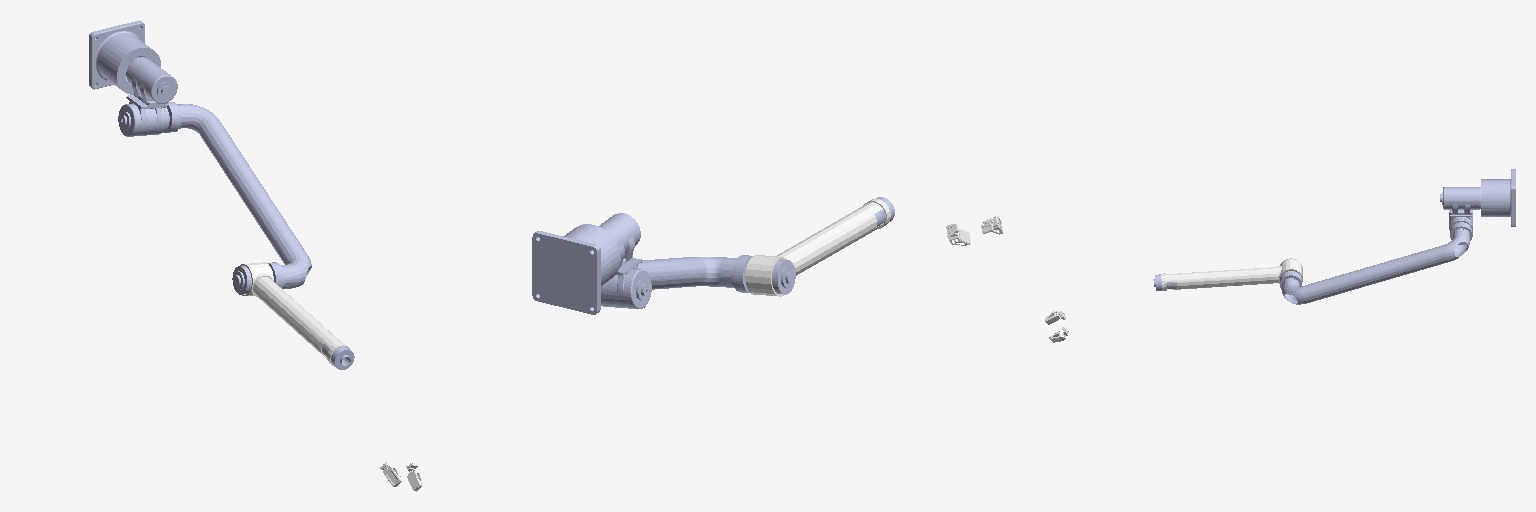
The robot description file, URDF, robot "starlink_space_manipulator_merged":
<?xml version="1.0" encoding="utf-8"?>
<!-- This URDF was automatically created by SolidWorks to URDF Exporter! Originally created by Stephen Brawner (brawner@gmail.com) 
     Commit Version: 1.6.0-4-g7f85cfe  Build Version: 1.6.7995.38578
     For more information, please see http://wiki.ros.org/sw_urdf_exporter -->
<robot
  name="starlink_space_manipulator_merged">
  <link
    name="base_link">
    <inertial>
      <origin
        xyz="-0.00908719924946466 0.0225428225681148 -0.00851924929637313"
        rpy="0 0 0" />
      <mass
        value="8.66024015898073" />
      <inertia
        ixx="0.096030351269764"
        ixy="1.77727621678889E-18"
        ixz="5.16160702233089E-19"
        iyy="0.103454922260914"
        iyz="-1.06284598473085E-18"
        izz="0.0960303512697639" />
    </inertial>
    <visual>
      <origin
        xyz="0 0 0"
        rpy="0 0 0" />
      <geometry>
        <mesh
          filename="package://starlink_space_manipulator_merged/meshes/base_link.STL" />
      </geometry>
      <material
        name="">
        <color
          rgba="0.792156862745098 0.819607843137255 0.933333333333333 1" />
      </material>
    </visual>
    <collision>
      <origin
        xyz="0 0 0"
        rpy="0 0 0" />
      <geometry>
        <mesh
          filename="package://starlink_space_manipulator_merged/meshes/base_link.STL" />
      </geometry>
    </collision>
  </link>
  <link
    name="1_Link">
    <inertial>
      <origin
        xyz="0 1.73472347597681E-18 0.0924571774318852"
        rpy="0 0 0" />
      <mass
        value="8.66024015898073" />
      <inertia
        ixx="0.096030351269764"
        ixy="6.22039820639877E-19"
        ixz="-1.70133968744234E-18"
        iyy="0.0960303512697639"
        iyz="5.48680140118644E-19"
        izz="0.103454922260914" />
    </inertial>
    <visual>
      <origin
        xyz="0 0 0"
        rpy="0 0 0" />
      <geometry>
        <mesh
          filename="package://starlink_space_manipulator_merged/meshes/1_Link.STL" />
      </geometry>
      <material
        name="">
        <color
          rgba="0.792156862745098 0.819607843137255 0.933333333333333 1" />
      </material>
    </visual>
    <collision>
      <origin
        xyz="0 0 0"
        rpy="0 0 0" />
      <geometry>
        <mesh
          filename="package://starlink_space_manipulator_merged/meshes/1_Link.STL" />
      </geometry>
    </collision>
  </link>
  <joint
    name="1"
    type="fixed">
    <origin
      xyz="-0.0090872 0.115 -0.0085192"
      rpy="1.5708 0 0" />
    <parent
      link="base_link" />
    <child
      link="1_Link" />
    <axis
      xyz="0 0 0" />
  </joint>
  <link
    name="2_Link">
    <inertial>
      <origin
        xyz="-0.000399471745595875 -0.100006574194713 -0.17423940484461"
        rpy="0 0 0" />
      <mass
        value="5.16309216784981" />
      <inertia
        ixx="0.0524543852135592"
        ixy="0.00348154867667969"
        ixz="6.96526910910626E-05"
        iyy="0.0306595326318824"
        iyz="-0.00056674368052247"
        izz="0.0439979075615329" />
    </inertial>
    <visual>
      <origin
        xyz="0 0 0"
        rpy="0 0 0" />
      <geometry>
        <mesh
          filename="package://starlink_space_manipulator_merged/meshes/2_Link.STL" />
      </geometry>
      <material
        name="">
        <color
          rgba="0.792156862745098 0.819607843137255 0.933333333333333 1" />
      </material>
    </visual>
    <collision>
      <origin
        xyz="0 0 0"
        rpy="0 0 0" />
      <geometry>
        <mesh
          filename="package://starlink_space_manipulator_merged/meshes/2_Link.STL" />
      </geometry>
    </collision>
  </link>
  <joint
    name="2"
    type="continuous">
    <origin
      xyz="0 0 0.180000000000037"
      rpy="3.14159265358979 0 2.98585080183883" />
    <parent
      link="1_Link" />
    <child
      link="2_Link" />
    <axis
      xyz="0 0 1" />
  </joint>
  <link
    name="3_Link">
    <inertial>
      <origin
        xyz="0.402106343974582 -0.69646527723748 -0.170177521474819"
        rpy="0 0 0" />
      <mass
        value="5.05309864811919" />
      <inertia
        ixx="0.388719008707072"
        ixy="0.210155891727349"
        ixz="9.35582867740286E-08"
        iyy="0.146049053932881"
        iyz="1.72041245618929E-07"
        izz="0.500677699984319" />
    </inertial>
    <visual>
      <origin
        xyz="0 0 0"
        rpy="0 0 0" />
      <geometry>
        <mesh
          filename="package://starlink_space_manipulator_merged/meshes/3_Link.STL" />
      </geometry>
      <material
        name="">
        <color
          rgba="0.792156862745098 0.819607843137255 0.933333333333333 1" />
      </material>
    </visual>
    <collision>
      <origin
        xyz="0 0 0"
        rpy="0 0 0" />
      <geometry>
        <mesh
          filename="package://starlink_space_manipulator_merged/meshes/3_Link.STL" />
      </geometry>
    </collision>
  </link>
  <joint
    name="3"
    type="continuous">
    <origin
      xyz="0 -0.200000000000044 -0.180000000000062"
      rpy="1.5707963267949 0.861101603774922 1.57079632679489" />
    <parent
      link="2_Link" />
    <child
      link="3_Link" />
    <axis
      xyz="0 0 1" />
  </joint>
  <link
    name="4_Link">
    <inertial>
      <origin
        xyz="-0.000406052776432964 0.317722269561103 0.0155331755135688"
        rpy="0 0 0" />
      <mass
        value="1.57635531881167" />
      <inertia
        ixx="0.133610363618846"
        ixy="5.33750993405583E-05"
        ixz="-3.60473794424369E-09"
        iyy="0.00502119434334708"
        iyz="-2.51427574990892E-05"
        izz="0.134586018527477" />
    </inertial>
    <visual>
      <origin
        xyz="0 0 0"
        rpy="0 0 0" />
      <geometry>
        <mesh
          filename="package://starlink_space_manipulator_merged/meshes/4_Link.STL" />
      </geometry>
      <material
        name="">
        <color
          rgba="1 1 1 1" />
      </material>
    </visual>
    <collision>
      <origin
        xyz="0 0 0"
        rpy="0 0 0" />
      <geometry>
        <mesh
          filename="package://starlink_space_manipulator_merged/meshes/4_Link.STL" />
      </geometry>
    </collision>
  </link>
  <joint
    name="4"
    type="continuous">
    <origin
      xyz="0.59999999999967 -1.03923048454122 0"
      rpy="-3.14159265358979 0 0.782892030860299" />
    <parent
      link="3_Link" />
    <child
      link="4_Link" />
    <axis
      xyz="0 0 1" />
  </joint>
  <link
    name="5_Link">
    <inertial>
      <origin
        xyz="4.95403718048237E-12 -0.133831799676102 -1.08292888545414E-12"
        rpy="0 0 0" />
      <mass
        value="0.493162423831723" />
      <inertia
        ixx="0.000743651993112022"
        ixy="1.20278678510111E-18"
        ixz="1.38966342908909E-20"
        iyy="0.00090854945817068"
        iyz="-1.41285095602017E-18"
        izz="0.000743651993112022" />
    </inertial>
    <visual>
      <origin
        xyz="0 0 0"
        rpy="0 0 0" />
      <geometry>
        <mesh
          filename="package://starlink_space_manipulator_merged/meshes/5_Link.STL" />
      </geometry>
      <material
        name="">
        <color
          rgba="0.792156862745098 0.819607843137255 0.933333333333333 1" />
      </material>
    </visual>
    <collision>
      <origin
        xyz="0 0 0"
        rpy="0 0 0" />
      <geometry>
        <mesh
          filename="package://starlink_space_manipulator_merged/meshes/5_Link.STL" />
      </geometry>
    </collision>
  </link>
  <joint
    name="5"
    type="continuous">
    <origin
      xyz="-0.000501551832770064 0.68679364371344 0.0155010481432148"
      rpy="0 -0.0763876794035917 3.14159265358979" />
    <parent
      link="4_Link" />
    <child
      link="5_Link" />
    <axis
      xyz="0 1 0" />
  </joint>
  <link
    name="6_Link">
    <inertial>
      <origin
        xyz="0.0214707452579566 0.411927496437301 -0.00546703071766287"
        rpy="0 0 0" />
      <mass
        value="2.87195429267027" />
      <inertia
        ixx="0.0147934331486237"
        ixy="8.63962531976598E-06"
        ixz="0.000597045968016498"
        iyy="0.00741958590010707"
        iyz="-7.79402786457456E-06"
        izz="0.0139165134650058" />
    </inertial>
    <visual>
      <origin
        xyz="0 0 0"
        rpy="0 0 0" />
      <geometry>
        <mesh
          filename="package://starlink_space_manipulator_merged/meshes/6_Link.STL" />
      </geometry>
      <material
        name="">
        <color
          rgba="1 1 1 1" />
      </material>
    </visual>
    <collision>
      <origin
        xyz="0 0 0"
        rpy="0 0 0" />
      <geometry>
        <mesh
          filename="package://starlink_space_manipulator_merged/meshes/6_Link.STL" />
      </geometry>
    </collision>
  </link>
  <joint
    name="6"
    type="continuous">
    <origin
      xyz="0 -0.252105683391845 0"
      rpy="-0.0158640776811277 -0.0317448426184613 -2.67805461574742" />
    <parent
      link="5_Link" />
    <child
      link="6_Link" />
    <axis
      xyz="0.446890321289026 0.894588755092636 0" />
  </joint>
  <link
    name="zhua1_Link">
    <inertial>
      <origin
        xyz="-0.128379781261659 0.00213384926804516 0.207655302746708"
        rpy="0 0 0" />
      <mass
        value="0.164012556994622" />
      <inertia
        ixx="0.00013737781424417"
        ixy="5.75324232565859E-07"
        ixz="1.56204373193582E-05"
        iyy="0.000128174497384982"
        iyz="2.89157114754918E-06"
        izz="5.56877074416984E-05" />
    </inertial>
    <visual>
      <origin
        xyz="0 0 0"
        rpy="0 0 0" />
      <geometry>
        <mesh
          filename="package://starlink_space_manipulator_merged/meshes/zhua1_Link.STL" />
      </geometry>
      <material
        name="">
        <color
          rgba="1 1 1 1" />
      </material>
    </visual>
    <collision>
      <origin
        xyz="0 0 0"
        rpy="0 0 0" />
      <geometry>
        <mesh
          filename="package://starlink_space_manipulator_merged/meshes/zhua1_Link.STL" />
      </geometry>
    </collision>
  </link>
  <joint
    name="8"
    type="fixed">
    <origin
      xyz="-0.0594749664346081 0.500637733720058 0.185490497621547"
      rpy="1.57079632679514 -1.16338288496691 3.14159265358967" />
    <parent
      link="6_Link" />
    <child
      link="zhua1_Link" />
    <axis
      xyz="0 0 0" />
  </joint>
  <link
    name="zhua2_Link">
    <inertial>
      <origin
        xyz="-0.128379783306647 0.00213384971683739 0.207655316229992"
        rpy="0 0 0" />
      <mass
        value="0.164012524852207" />
      <inertia
        ixx="0.000137377758651507"
        ixy="5.75327307197006E-07"
        ixz="1.56204303824166E-05"
        iyy="0.000128174447551924"
        iyz="2.8915389731705E-06"
        izz="5.56877117940916E-05" />
    </inertial>
    <visual>
      <origin
        xyz="0 0 0"
        rpy="0 0 0" />
      <geometry>
        <mesh
          filename="package://starlink_space_manipulator_merged/meshes/zhua2_Link.STL" />
      </geometry>
      <material
        name="">
        <color
          rgba="1 1 1 1" />
      </material>
    </visual>
    <collision>
      <origin
        xyz="0 0 0"
        rpy="0 0 0" />
      <geometry>
        <mesh
          filename="package://starlink_space_manipulator_merged/meshes/zhua2_Link.STL" />
      </geometry>
    </collision>
  </link>
  <joint
    name="7"
    type="fixed">
    <origin
      xyz="0.10529337444641 0.500637733720033 -0.202803629614125"
      rpy="-1.57079632679516 1.16338288496691 0" />
    <parent
      link="6_Link" />
    <child
      link="zhua2_Link" />
    <axis
      xyz="0 0 0" />
  </joint>
</robot>

--- Facts derived from the render (not from the file) ---
Views: 3 orthographic renders of the robot side by side, from view 1: azimuth 30°, elevation 25°; view 2: azimuth 150°, elevation 25°; view 3: azimuth 270°, elevation 25°.
Robot: starlink_space_manipulator_merged — 9 links, 8 joints (5 continuous, 3 fixed); root link base_link; default pose: all joints at 0.
Visible links, largest first — view 1: 3_Link, 2_Link, 1_Link, 4_Link; view 2: 1_Link, 4_Link, 3_Link, 2_Link; view 3: 3_Link, 4_Link, 1_Link, 2_Link.
Link boxes in pixels (x1=…): 3_Link: x1=121, y1=104, x2=311, y2=294; 2_Link: x1=118, y1=57, x2=180, y2=136; 1_Link: x1=89, y1=20, x2=160, y2=94; 4_Link: x1=240, y1=262, x2=349, y2=366; 1_Link: x1=532, y1=224, x2=620, y2=314; 4_Link: x1=745, y1=199, x2=890, y2=296; 3_Link: x1=638, y1=255, x2=795, y2=294; 2_Link: x1=599, y1=213, x2=651, y2=308; 3_Link: x1=1280, y1=228, x2=1469, y2=304; 4_Link: x1=1161, y1=259, x2=1302, y2=290; 1_Link: x1=1481, y1=169, x2=1515, y2=226; 2_Link: x1=1440, y1=187, x2=1480, y2=240.
Bounding box of the posed robot: 0.5889 × 3.13 × 1.25 m (x, y, z).
Meshes: 9 distinct files referenced, 7 mesh visuals loaded (7 binary STL); not drawn: 2 (reference not matched to a file when rendering).
